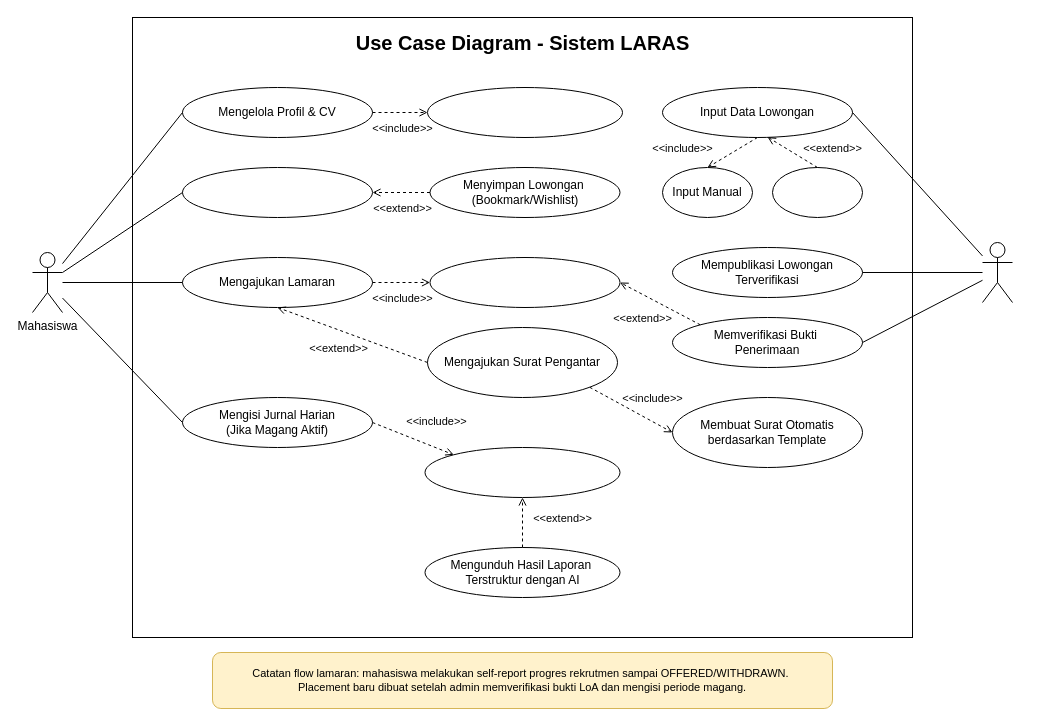
This 1050x726 diagram has some shape labels left out. Here are the shapes that lost their labels. From the top down, the centre of each, then its label:
At pixel 524 112: "Mengevaluasi Kecocokan Lowongan Otomatis".
At pixel 277 192: "Mencari Lowongan".
At pixel 817 192: "Scraping URL".
At pixel 524 282: "Melaporkan Status Lamaran".
At pixel 997 272: "Administrator".
At pixel 522 472: "Mengisi Laporan Magang".
